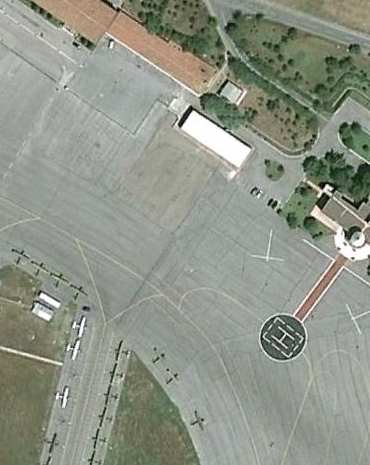heliport: (268, 323, 297, 351)
